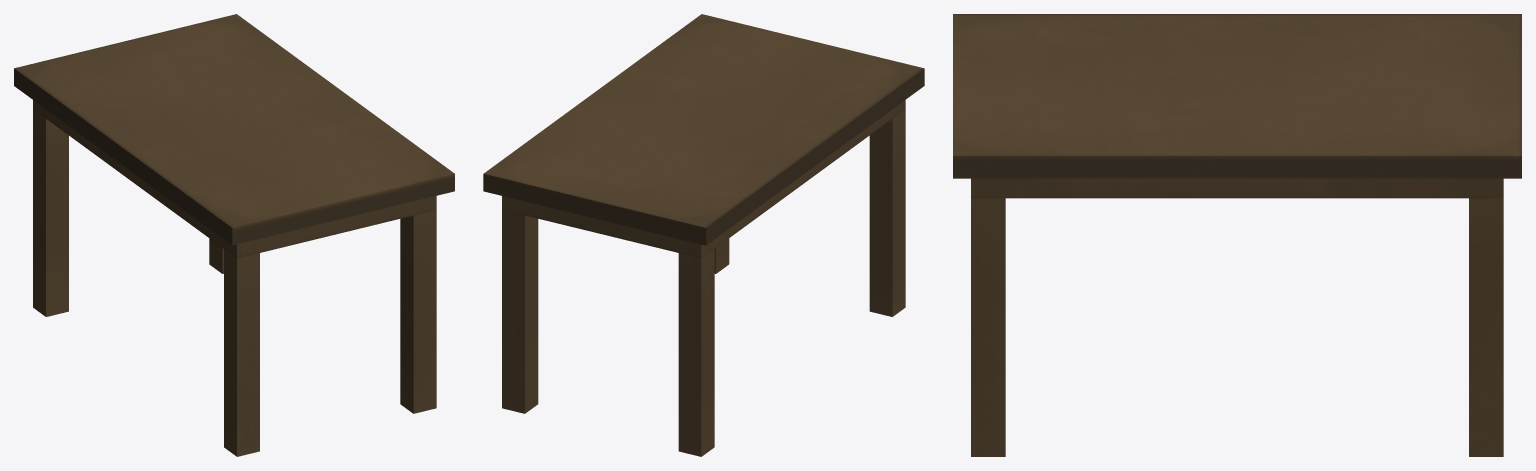
The picture shows the model from 3 angles, left to right: view 1: azimuth 30°, elevation 25°; view 2: azimuth 150°, elevation 25°; view 3: azimuth 270°, elevation 25°; orthographic projection. The views are drawn at different scales.
Visible parts, largest first — view 1: pCube8; view 2: pCube8; view 3: pCube8.
Part boxes in pixels (bbox=[...]): pCube8: bbox=[14, 14, 454, 456]; pCube8: bbox=[483, 14, 924, 456]; pCube8: bbox=[953, 14, 1521, 456].
Size of the model in its own units: 5.88 by 5.98 by 9.99.
